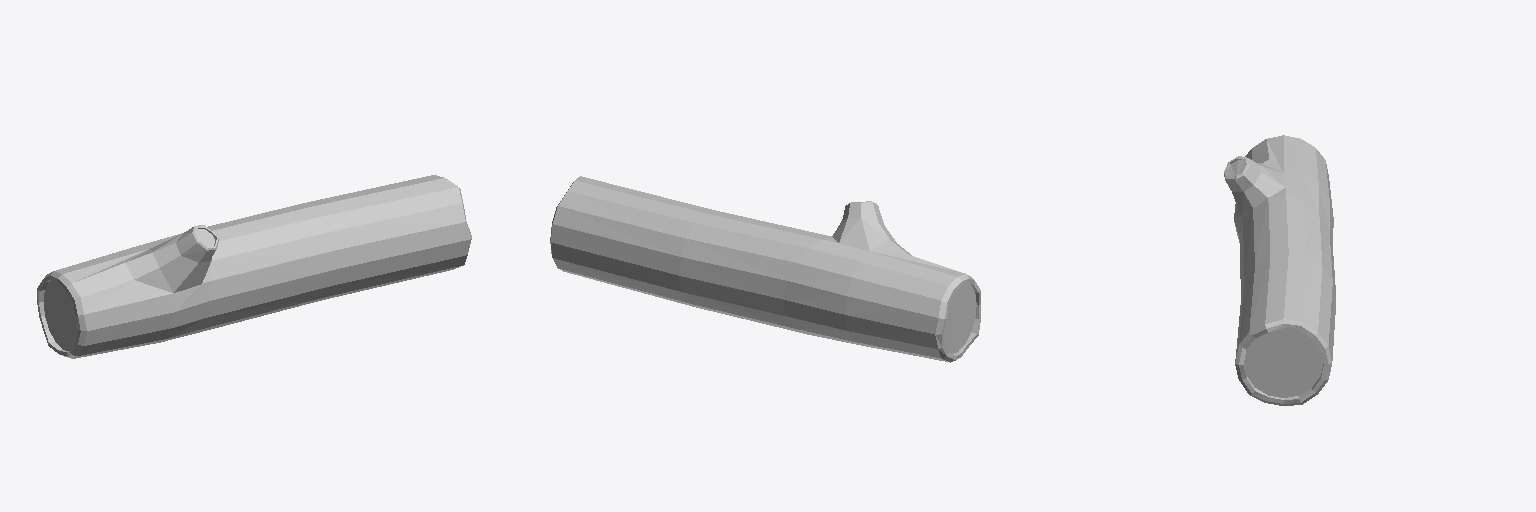
The model's file is Log_5.obj.
The picture shows the model from 3 angles: view 1: azimuth 30°, elevation 25°; view 2: azimuth 150°, elevation 25°; view 3: azimuth 270°, elevation 25°; orthographic projection.
Visible parts, largest first — view 1: Cylinder.080_Cylinder.083; view 2: Cylinder.080_Cylinder.083; view 3: Cylinder.080_Cylinder.083.
Part boxes in pixels (left/top/right/bottom): Cylinder.080_Cylinder.083: left=37, top=175, right=471, bottom=358; Cylinder.080_Cylinder.083: left=550, top=176, right=980, bottom=362; Cylinder.080_Cylinder.083: left=1224, top=135, right=1335, bottom=405.
Size of the model in its own units: 2.41 by 0.706 by 0.5957.